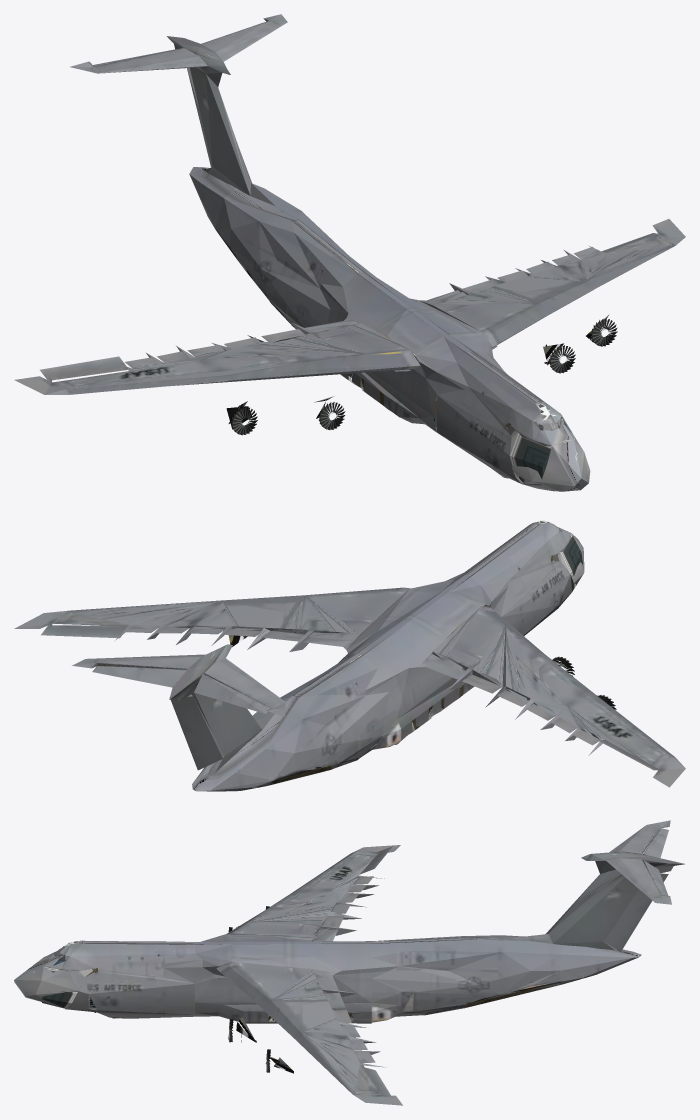
3 renders of one model, top to bottom at view 1: azimuth 30°, elevation 25°; view 2: azimuth 150°, elevation 25°; view 3: azimuth 270°, elevation 25°, orthographic. The views are drawn at different scales.
Visible parts, largest first — view 1: RH_Rear_Steps_Door_outer_body rear_0, left_flap_5_Wing Left_0, Front_Cover_Outer_LH_2_front_0, right_flap_2_wing right top_0, body_top_body top_0, parts_6_Tail Fin_0, Cover_3_body middle_0, Right_Blade_fin blades_0, left_flap_1_Wing Left Bottom_0, Engine_Blade_1_Engines_0, parts_9_interior 1_0, Right_Flap_1_Wing Right_0; view 2: RH_Rear_Steps_Door_outer_body rear_0, left_flap_5_Wing Left_0, right_flap_2_wing right top_0, body_top_body top_0, Front_Cover_Outer_LH_2_front_0, parts_6_Tail Fin_0, Right_Blade_fin blades_0, Cover_3_body middle_0, left_flap_1_Wing Left Bottom_0, Right_Flap_1_Wing Right_0, parts_9_interior 1_0, Engine_Blade_1_Engines_0; view 3: RH_Rear_Steps_Door_outer_body rear_0, Front_Cover_Outer_LH_2_front_0, right_flap_2_wing right top_0, parts_6_Tail Fin_0, left_flap_5_Wing Left_0, body_top_body top_0, Cover_3_body middle_0, Right_Blade_fin blades_0, parts_9_interior 1_0, left_flap_1_Wing Left Bottom_0, Right_Flap_1_Wing Right_0, Engine_Blade_1_Engines_0 (+1 smaller).
Boxes of the visible parts, box(x1,y1,x2,y2) form: RH_Rear_Steps_Door_outer_body rear_0: box(189, 167, 388, 328); left_flap_5_Wing Left_0: box(15, 318, 420, 394); Front_Cover_Outer_LH_2_front_0: box(436, 351, 590, 491); right_flap_2_wing right top_0: box(70, 219, 684, 391); body_top_body top_0: box(321, 272, 506, 389); parts_6_Tail Fin_0: box(167, 36, 274, 205); Cover_3_body middle_0: box(320, 273, 500, 431); Right_Blade_fin blades_0: box(70, 14, 287, 73); left_flap_1_Wing Left Bottom_0: box(14, 329, 419, 394); Engine_Blade_1_Engines_0: box(226, 314, 617, 435); parts_9_interior 1_0: box(220, 236, 575, 491); Right_Flap_1_Wing Right_0: box(463, 219, 685, 347); RH_Rear_Steps_Door_outer_body rear_0: box(192, 653, 401, 791); left_flap_5_Wing Left_0: box(418, 606, 685, 786); right_flap_2_wing right top_0: box(16, 587, 488, 651); body_top_body top_0: box(338, 573, 508, 690); Front_Cover_Outer_LH_2_front_0: box(456, 521, 584, 635); parts_6_Tail Fin_0: box(169, 644, 274, 776); Right_Blade_fin blades_0: box(72, 654, 285, 716); Cover_3_body middle_0: box(320, 582, 507, 744); left_flap_1_Wing Left Bottom_0: box(462, 674, 685, 787); Right_Flap_1_Wing Right_0: box(14, 611, 304, 641); parts_9_interior 1_0: box(268, 527, 582, 785); Engine_Blade_1_Engines_0: box(228, 635, 616, 709); RH_Rear_Steps_Door_outer_body rear_0: box(371, 935, 641, 1022); Front_Cover_Outer_LH_2_front_0: box(14, 940, 194, 1018); right_flap_2_wing right top_0: box(216, 866, 401, 1105); parts_6_Tail Fin_0: box(510, 851, 684, 952); left_flap_5_Wing Left_0: box(226, 845, 400, 941); body_top_body top_0: box(163, 934, 398, 973); Cover_3_body middle_0: box(163, 933, 399, 1023); Right_Blade_fin blades_0: box(606, 820, 671, 904); parts_9_interior 1_0: box(42, 958, 560, 1008); left_flap_1_Wing Left Bottom_0: box(237, 845, 400, 941); Right_Flap_1_Wing Right_0: box(217, 969, 402, 1105); Engine_Blade_1_Engines_0: box(228, 906, 293, 1073).
Bounding box in the file's own units: 69.09 × 19.63 × 75.21.
19 materials, 16 textured.
